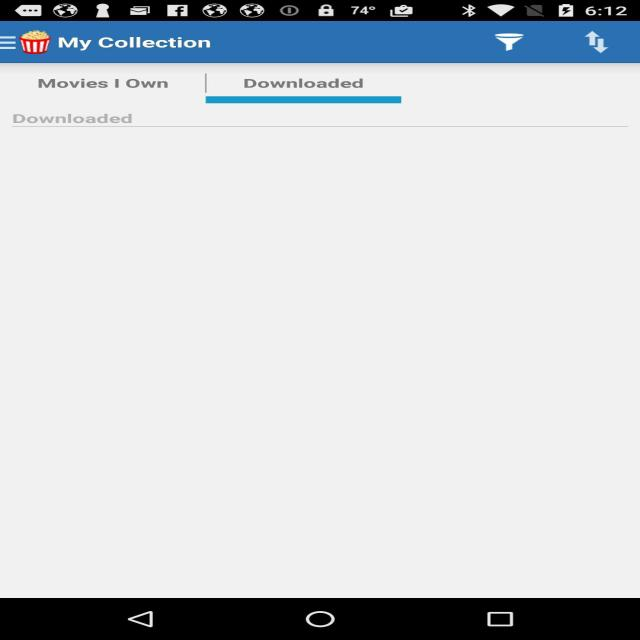text: (20, 71, 423, 106), (56, 26, 227, 60)
